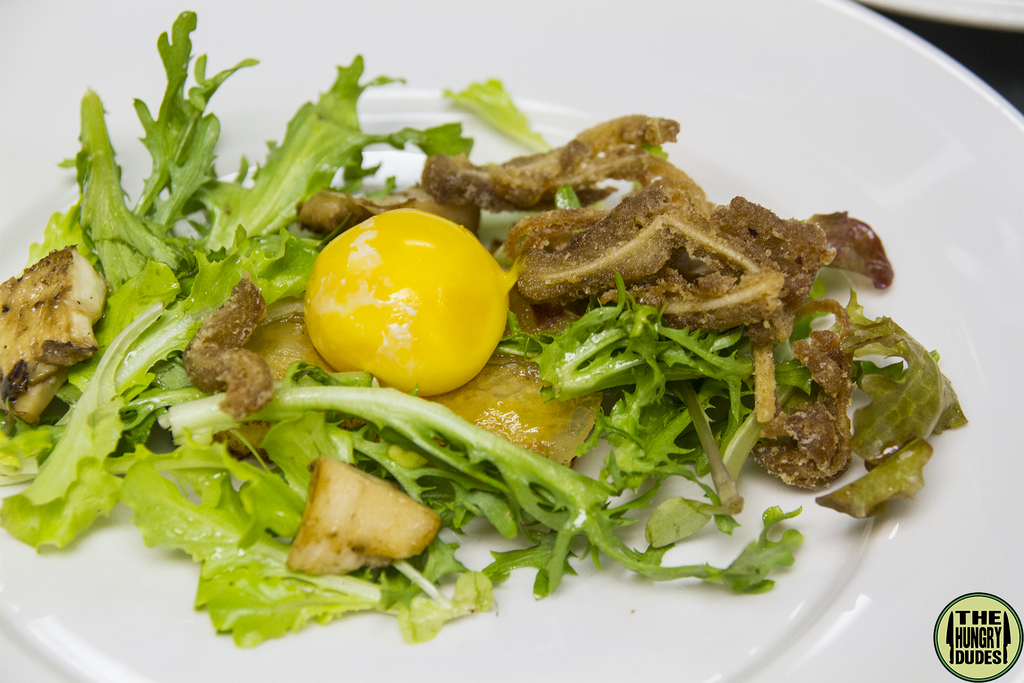salad: (0, 4, 981, 666)
